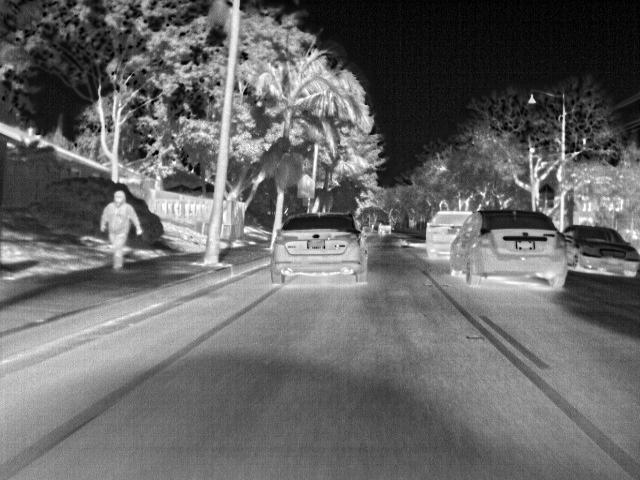car: (449, 211, 570, 290), (270, 213, 368, 285), (563, 225, 639, 276), (426, 209, 476, 258)
person: (98, 187, 143, 272)
